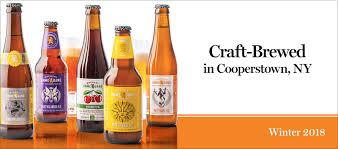Glass bottle: (0, 6, 179, 149)
